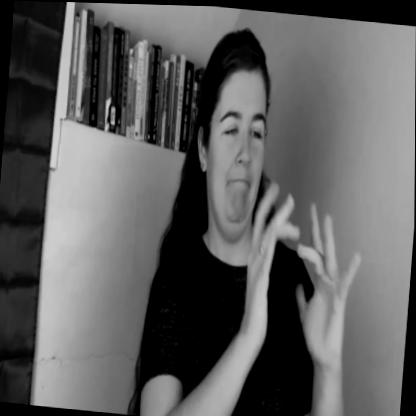Internet: (226, 159, 371, 399)
